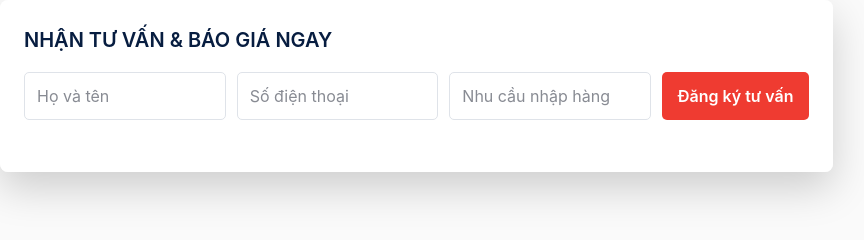
QuoteForm › shows accessible required-field errors and does not request the API for an empty submission
Click the button "Đăng ký tư vấn" at (736, 96), box [662,72,809,120]
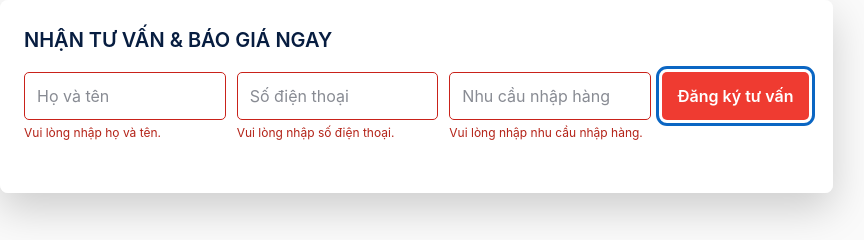
Check: the text "Vui lòng nhập họ và tên." is shown, box [24,125,161,140]
Check: the text "Vui lòng nhập số điện thoại." is shown, box [237,125,394,140]
Check: the text "Vui lòng nhập nhu cầu nhập hàng." is shown, box [449,125,651,141]
